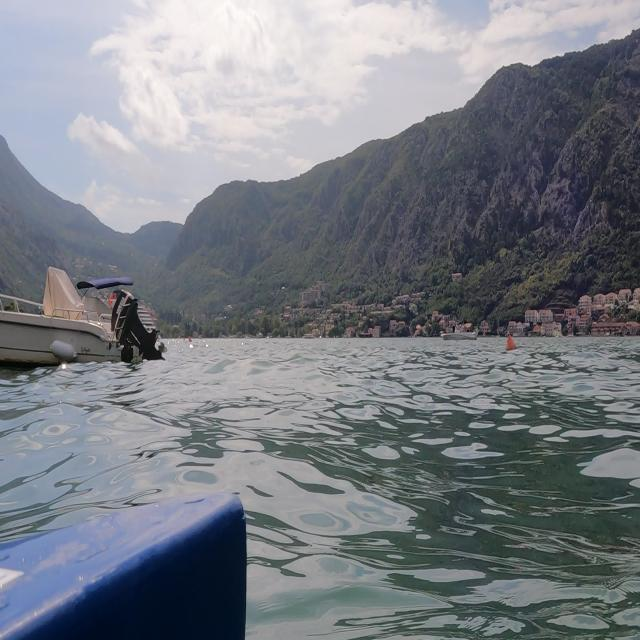boat: (1, 262, 167, 370), (433, 314, 484, 349)
buoy: (497, 323, 524, 358)
